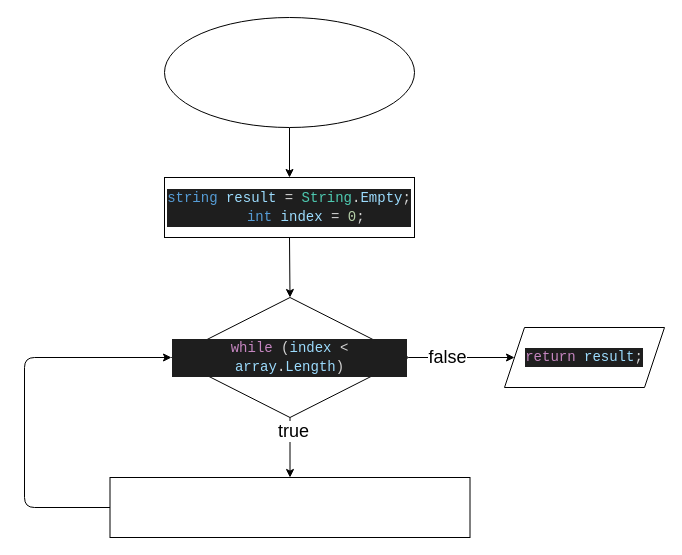
Image size: 682x555. Some labels were removed from this diagram. Each missing label, with the centre of its shape:
result = ( $" { result } { array [ index ]} " ); index ++;: point (289, 507)
string Print ( string [] array ): point (289, 72)
